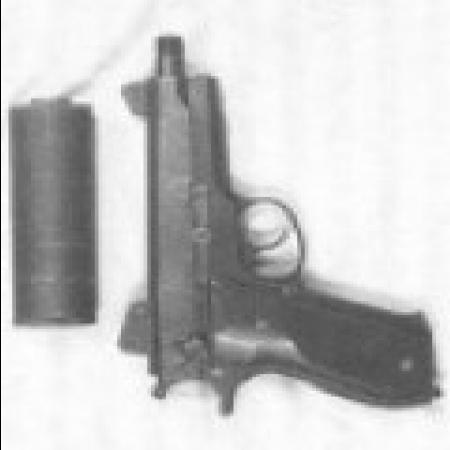Pistol: (105, 28, 446, 419)
